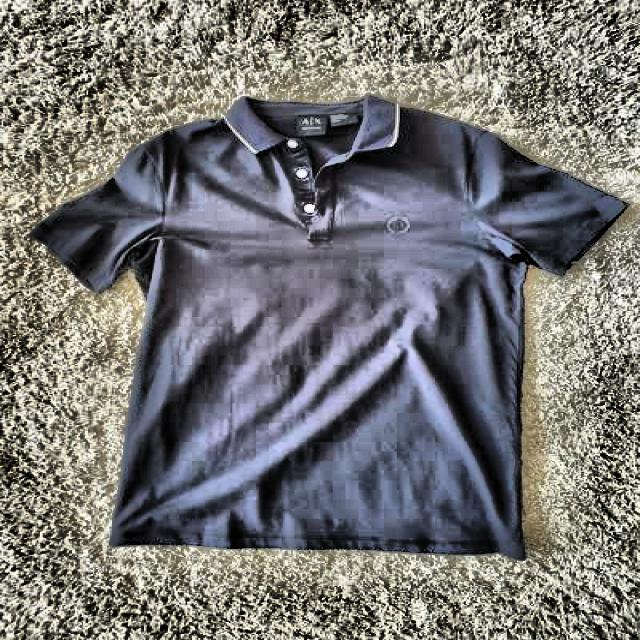clothes: (26, 94, 627, 562)
